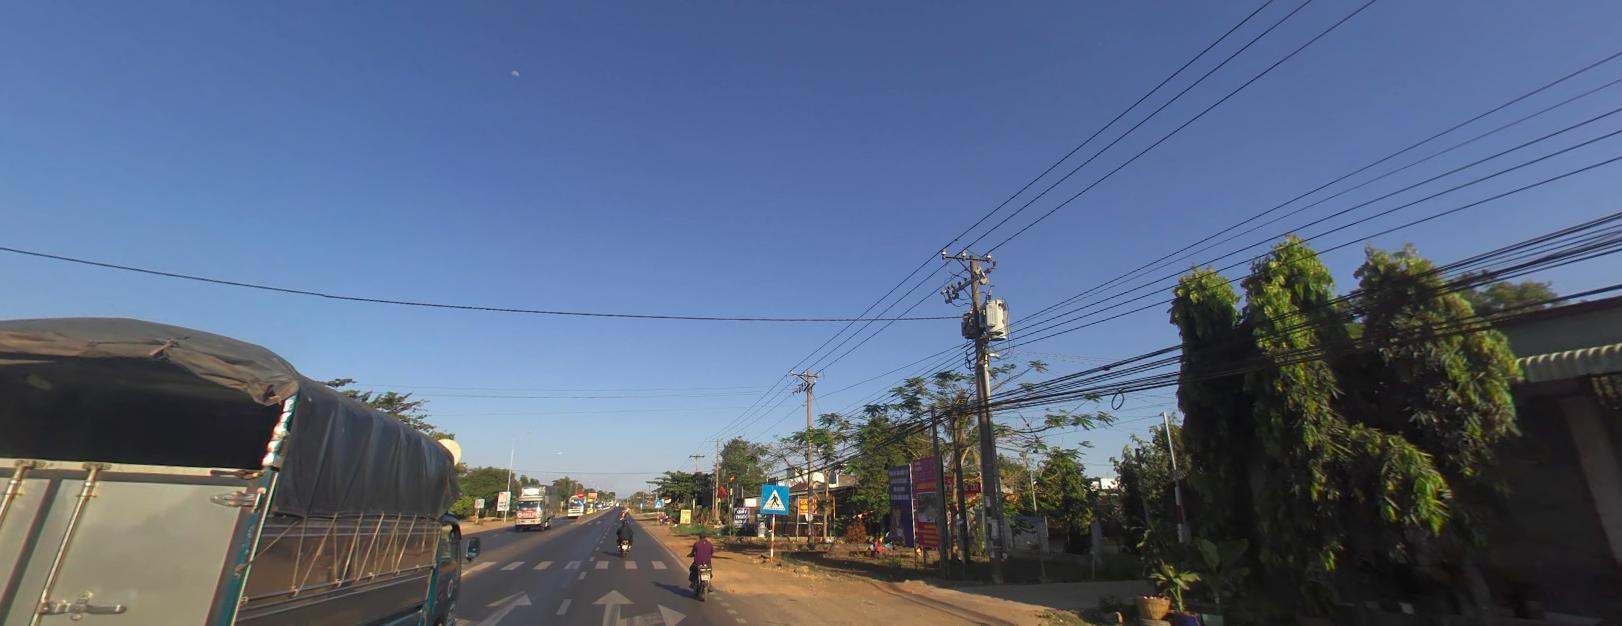Cam nguoc chieu: (576, 489, 584, 497)
Hieu lenh: (576, 498, 583, 504)
